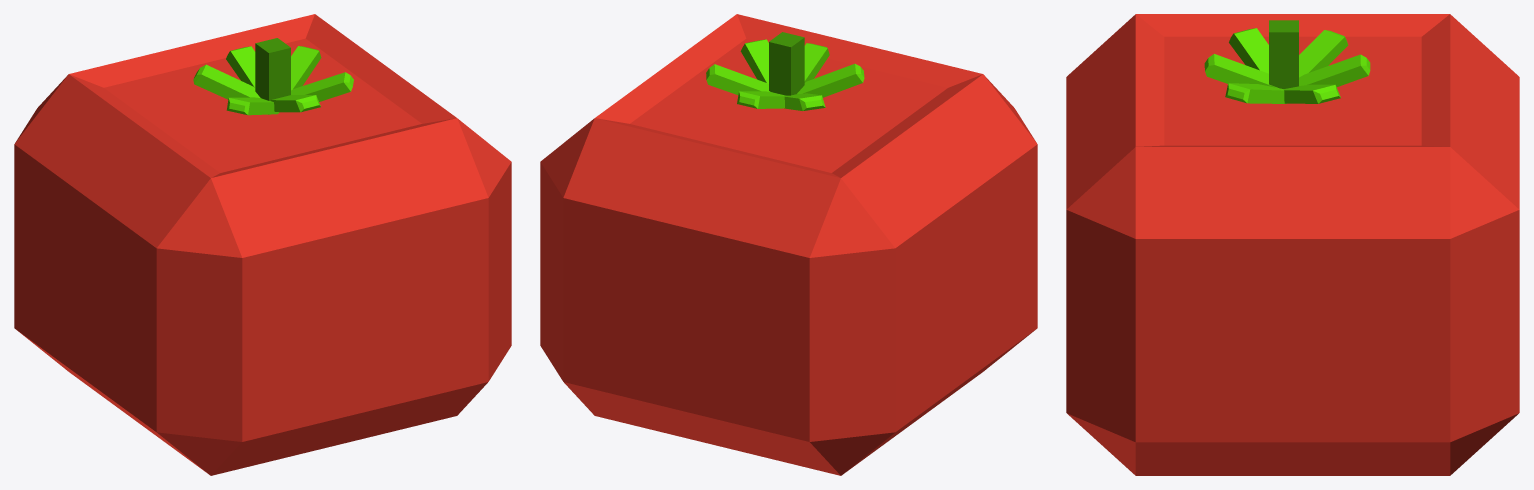
Rendered from tomato.fbx.
3 views of the same model, side by side, from view 1: azimuth 30°, elevation 25°; view 2: azimuth 150°, elevation 25°; view 3: azimuth 270°, elevation 25° (orthographic). The views are drawn at different scales.
Visible parts, largest first — view 1: Cube, Cube.001, Cube.006, Cube.004, Cube.005, Cube.002, Cube.007, Cube.003; view 2: Cube, Cube.001, Cube.007, Cube.005, Cube.004, Cube.002, Cube.003, Cube.006; view 3: Cube, Cube.001, Cube.002, Cube.006, Cube.003, Cube.007, Cube.004, Cube.005.
Boxes of the visible parts, x1=… form: Cube: x1=14, y1=14, x2=511, y2=475; Cube.001: x1=255, y1=38, x2=290, y2=100; Cube.006: x1=193, y1=64, x2=260, y2=99; Cube.004: x1=291, y1=72, x2=353, y2=101; Cube.005: x1=291, y1=46, x2=321, y2=90; Cube.002: x1=226, y1=46, x2=255, y2=87; Cube.007: x1=226, y1=97, x2=279, y2=115; Cube.003: x1=271, y1=95, x2=320, y2=112; Cube: x1=540, y1=14, x2=1037, y2=475; Cube.001: x1=769, y1=32, x2=804, y2=95; Cube.007: x1=797, y1=63, x2=864, y2=97; Cube.005: x1=706, y1=64, x2=770, y2=94; Cube.004: x1=740, y1=39, x2=768, y2=83; Cube.002: x1=737, y1=91, x2=786, y2=108; Cube.003: x1=804, y1=43, x2=829, y2=82; Cube.006: x1=784, y1=93, x2=825, y2=110; Cube: x1=1066, y1=14, x2=1519, y2=475; Cube.001: x1=1269, y1=20, x2=1298, y2=88; Cube.002: x1=1299, y1=54, x2=1370, y2=86; Cube.006: x1=1299, y1=30, x2=1348, y2=77; Cube.003: x1=1204, y1=54, x2=1277, y2=87; Cube.007: x1=1229, y1=28, x2=1268, y2=73; Cube.004: x1=1225, y1=83, x2=1286, y2=103; Cube.005: x1=1283, y1=84, x2=1340, y2=103.
Bounding box in the file's own units: 200 × 188 × 200.
